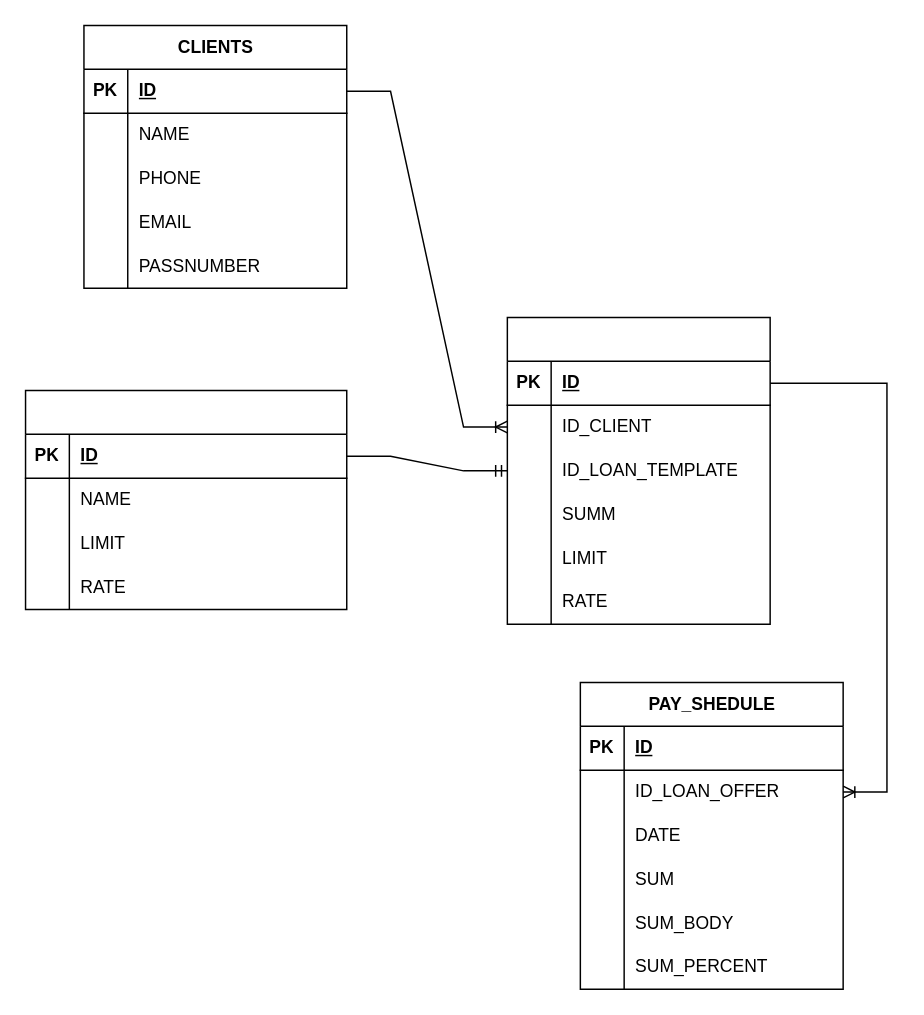
This 924x1015 diagram has some shape labels left out. Here are the shapes that lost their labels. From the top down, the box of each, then its label:
(506, 316, 770, 624): LOAN_OFFERS
(24, 389, 347, 610): LOAN_TEMPLATES
